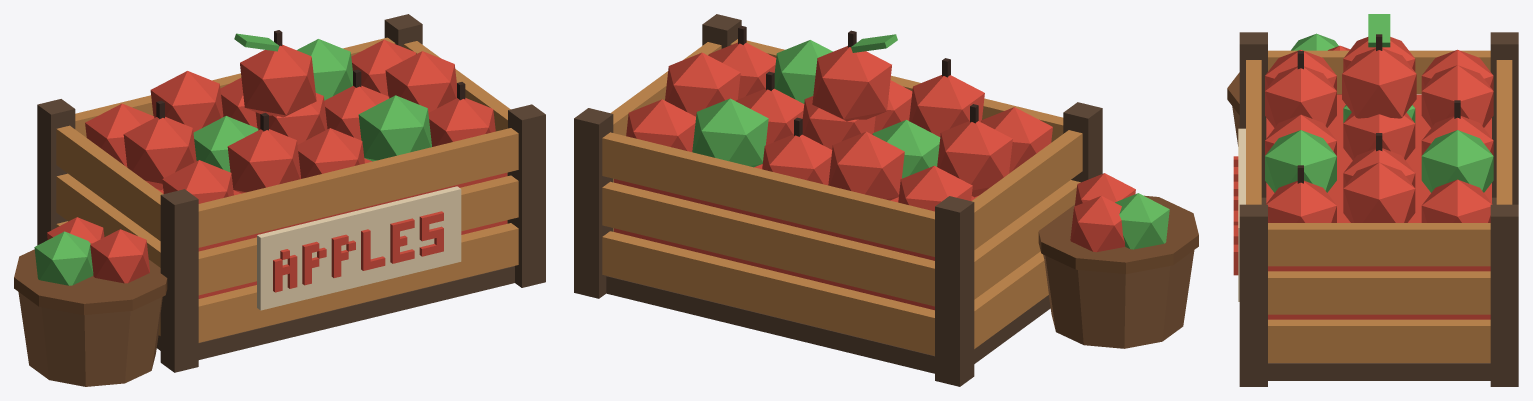
The model's file is CatCafe_Decor_AppleBushel.glb.
The picture shows the model from 3 angles, left to right: view 1: azimuth 30°, elevation 25°; view 2: azimuth 150°, elevation 25°; view 3: azimuth 270°, elevation 25°; orthographic projection. The views are drawn at different scales.
Parts seen in each view (by area): view 1: CatCafe_Decor_AppleBushel; view 2: CatCafe_Decor_AppleBushel; view 3: CatCafe_Decor_AppleBushel.
Part boxes in pixels (left/top/right/bottom): CatCafe_Decor_AppleBushel: left=14, top=14, right=545, bottom=386; CatCafe_Decor_AppleBushel: left=574, top=14, right=1198, bottom=386; CatCafe_Decor_AppleBushel: left=1227, top=14, right=1518, bottom=386.
Size of the model in its own units: 3.63 by 1.8 by 1.86.
Materials: 1 (1 with a texture image).
